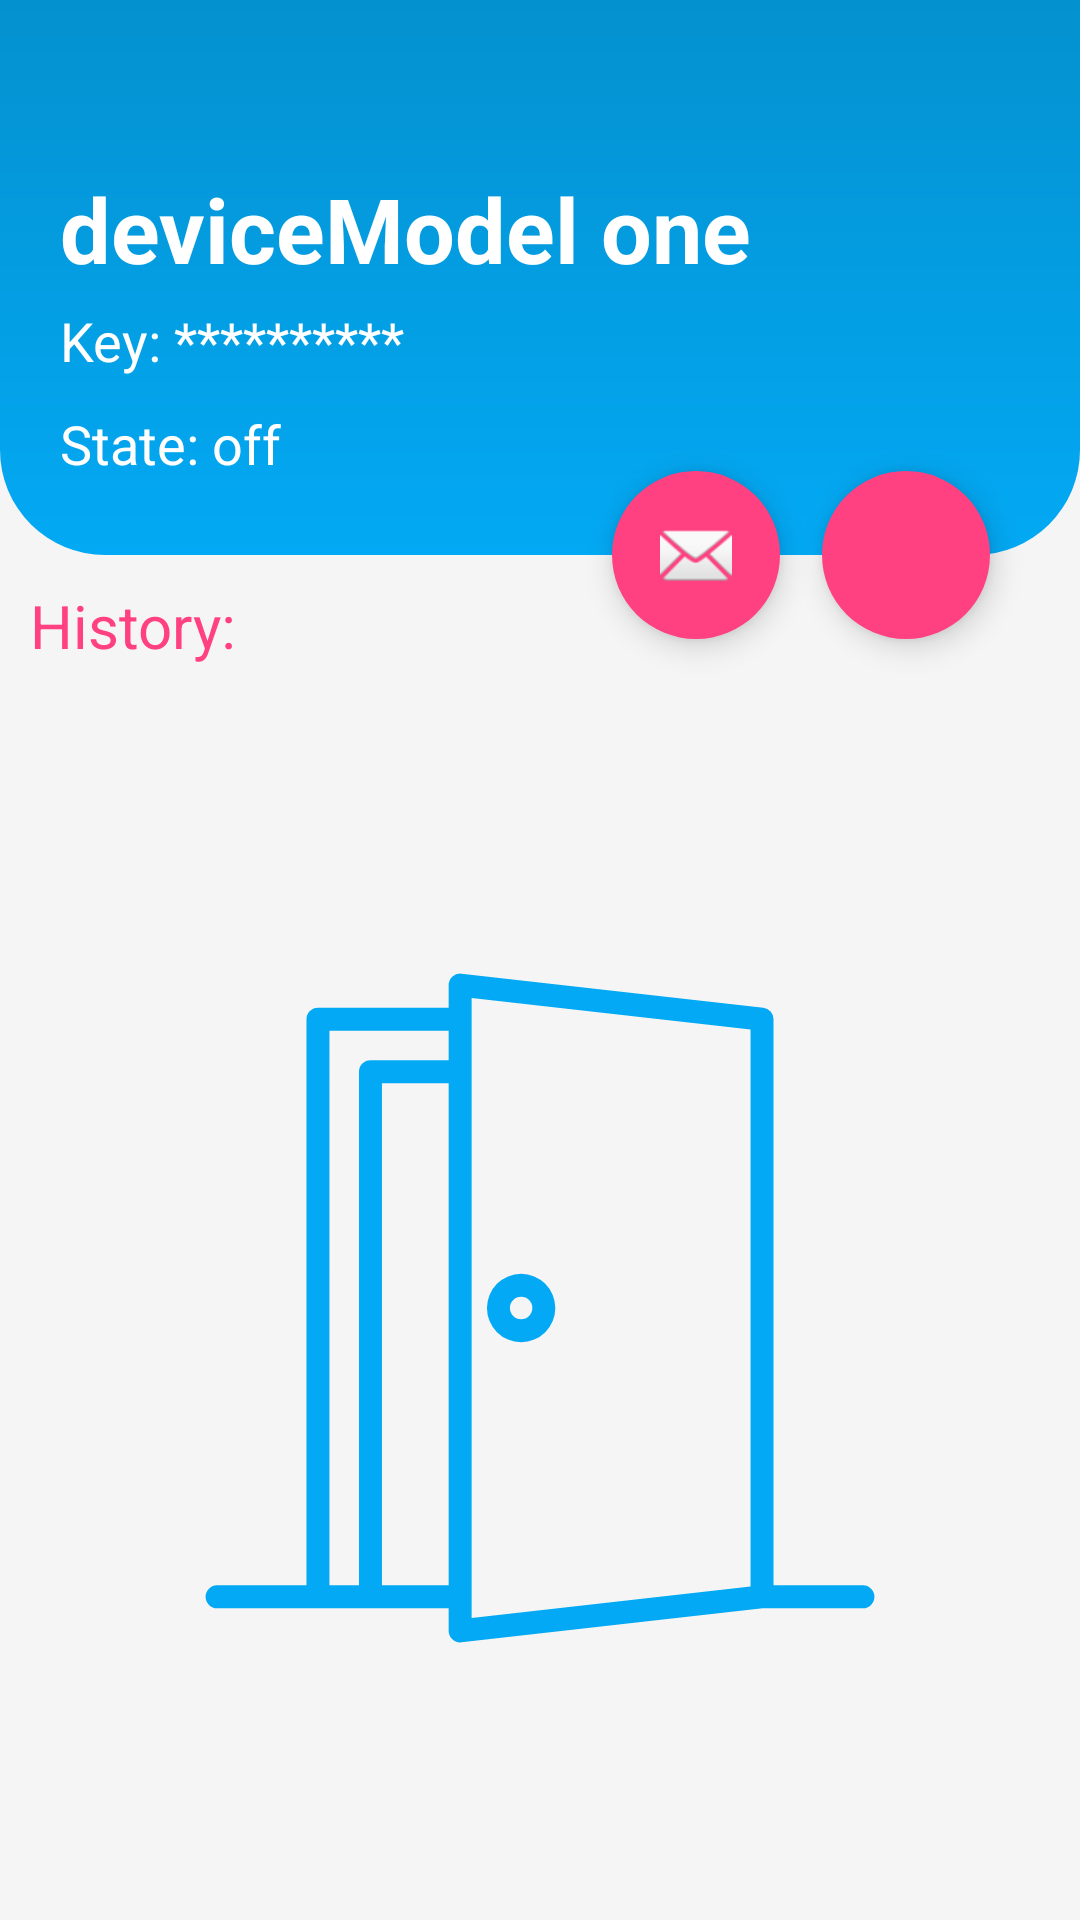

Icons on this 1080 × 1920 Android screen, each with the point to tap as (x,y):
email: (696,555)
